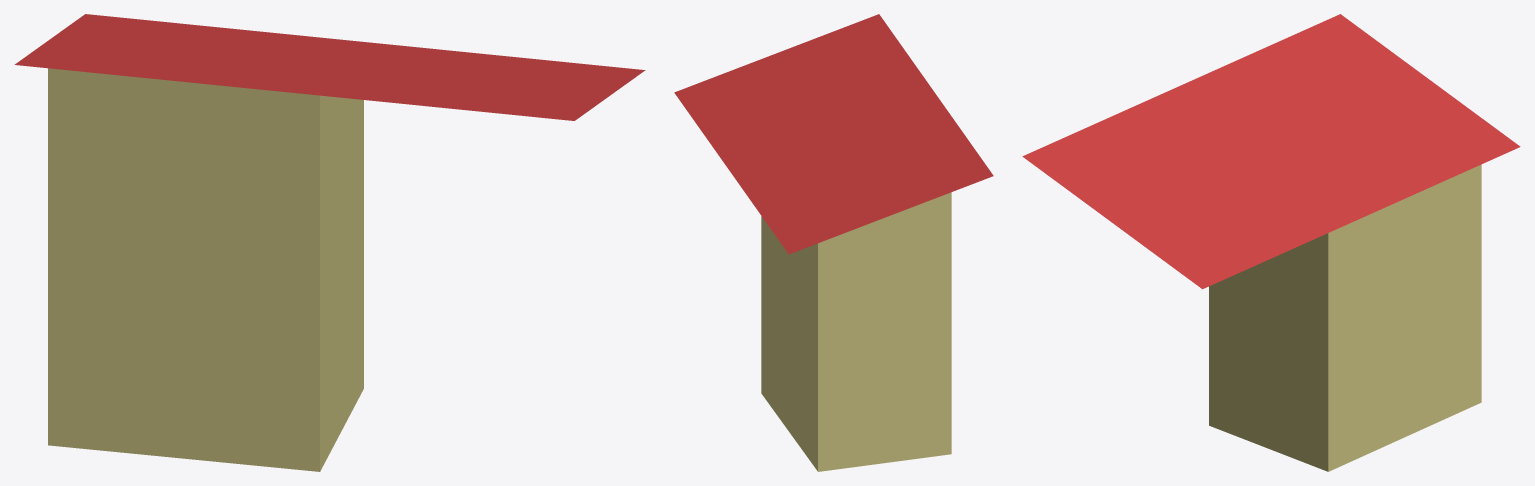
The picture shows the model from 3 angles, left to right: view 1: azimuth 30°, elevation 25°; view 2: azimuth 150°, elevation 25°; view 3: azimuth 270°, elevation 25°; orthographic projection. The views are drawn at different scales.
Bounding box in the file's own units: 9.42 × 9.26 × 6.63.
